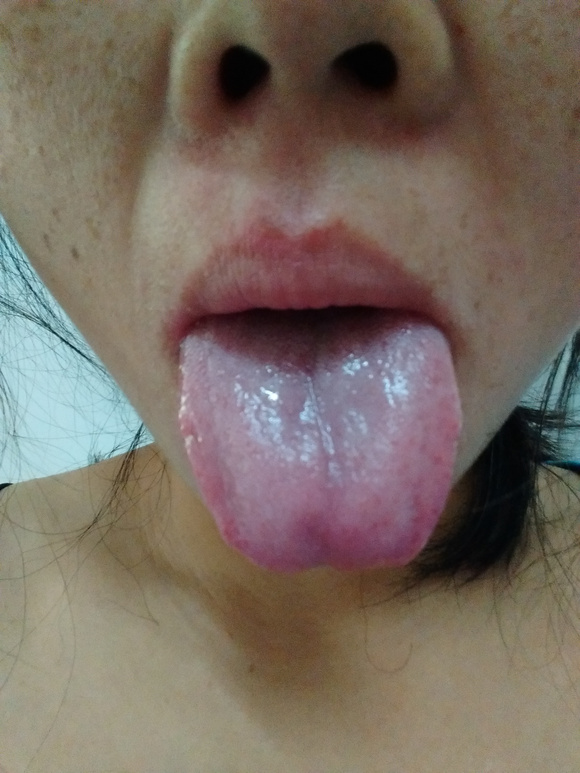baitaishe: (179, 309, 464, 575)
hongshe: (179, 309, 464, 575)
